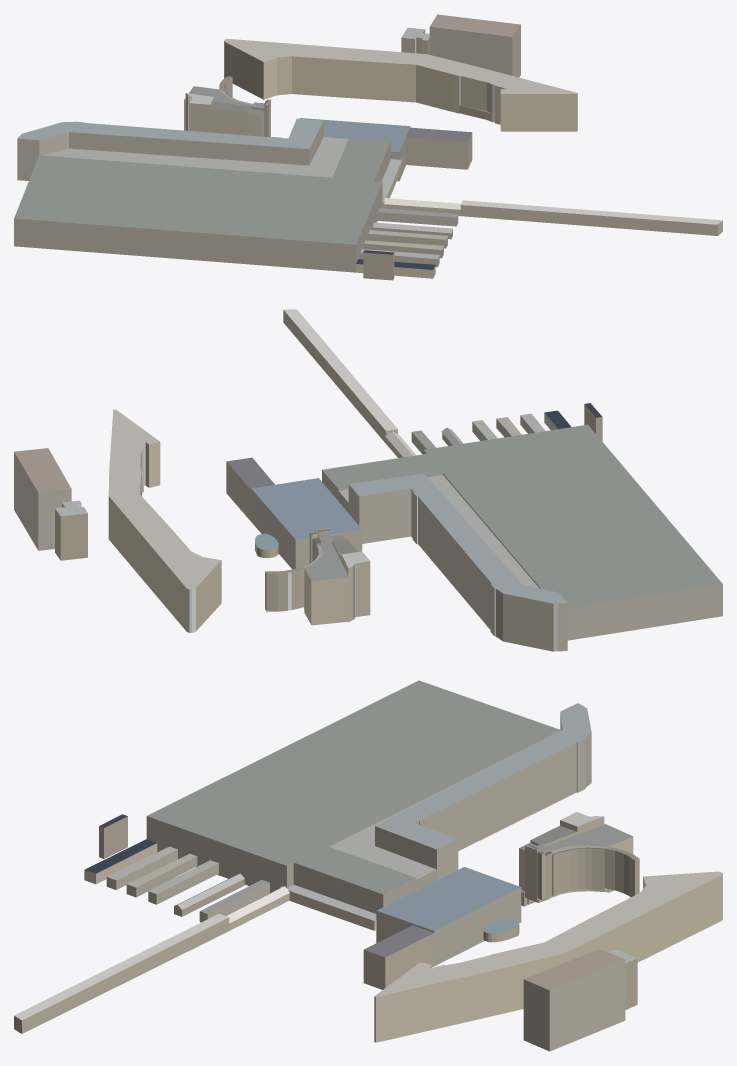
3 renders of one model, top to bottom at view 1: azimuth 30°, elevation 25°; view 2: azimuth 150°, elevation 25°; view 3: azimuth 270°, elevation 25°, orthographic. The views are drawn at different scales.
Parts seen in each view (by area): view 1: tuile; view 2: tuile; view 3: tuile.
Boxes of the visible parts, left/top/right/bottom form: tuile: left=14, top=14, right=722, bottom=280; tuile: left=14, top=309, right=722, bottom=651; tuile: left=14, top=680, right=722, bottom=1051.
Size of the model in its own units: 373 by 37.51 by 337.
